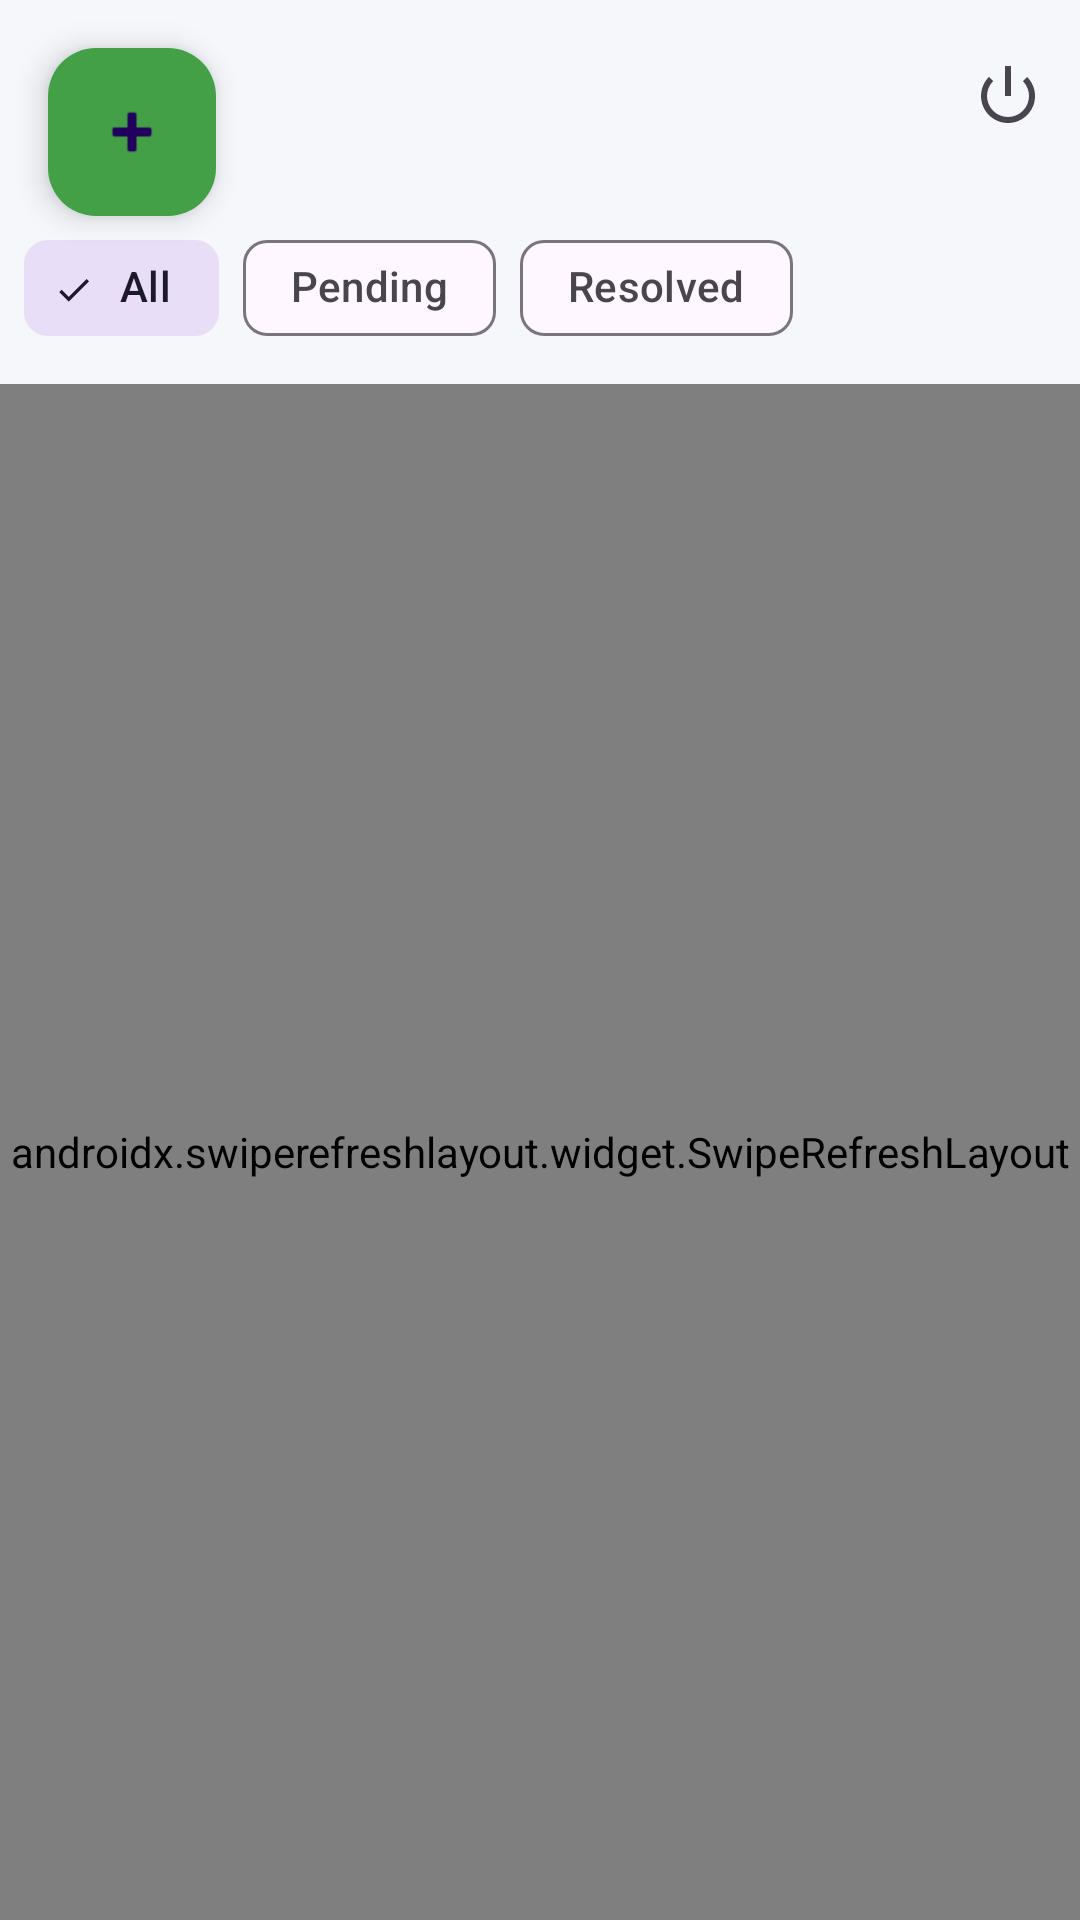

Where to tap for icons on this 1080 × 1920 app screen, as point (x, y):
Add Issue: point (132, 132)
